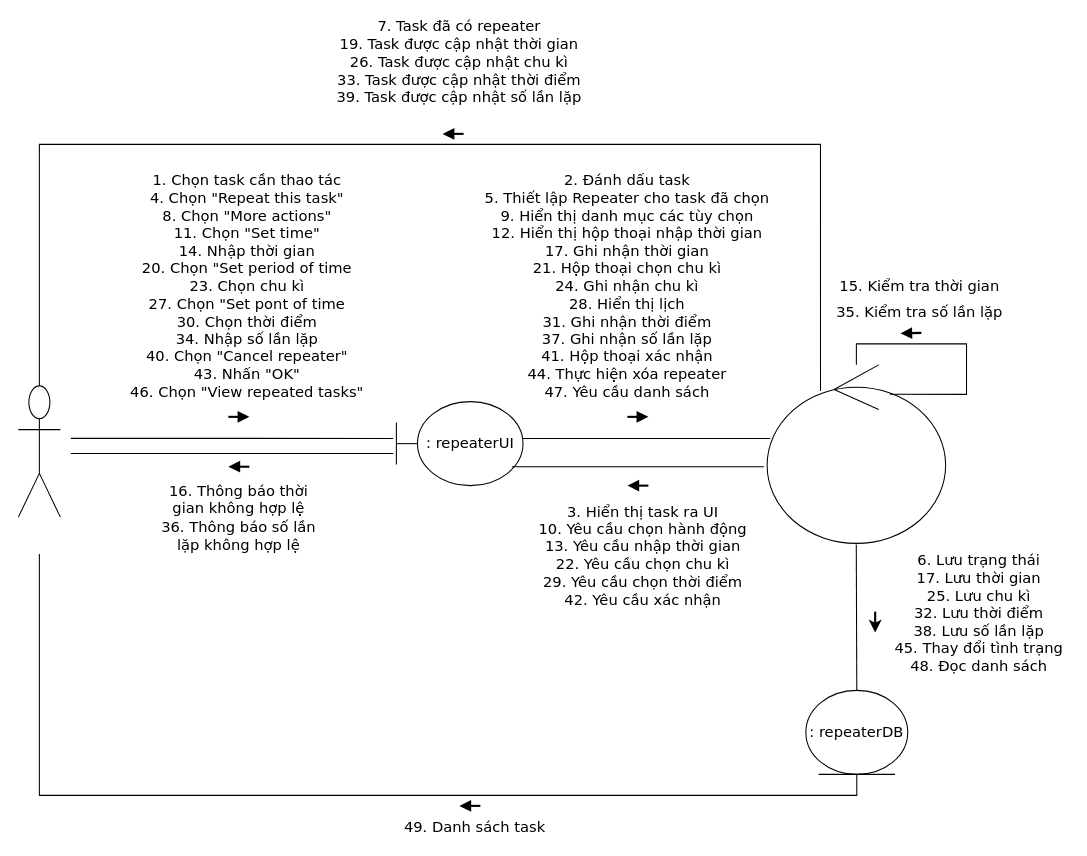
The diagram is 1087 pixels wide and 856 high, and some of its shapes have lost their labels. Here are the shapes that lost their labels. From the top down, the centre of each, then its label:
point 38,451: User
point 856,453: : repeaterController
